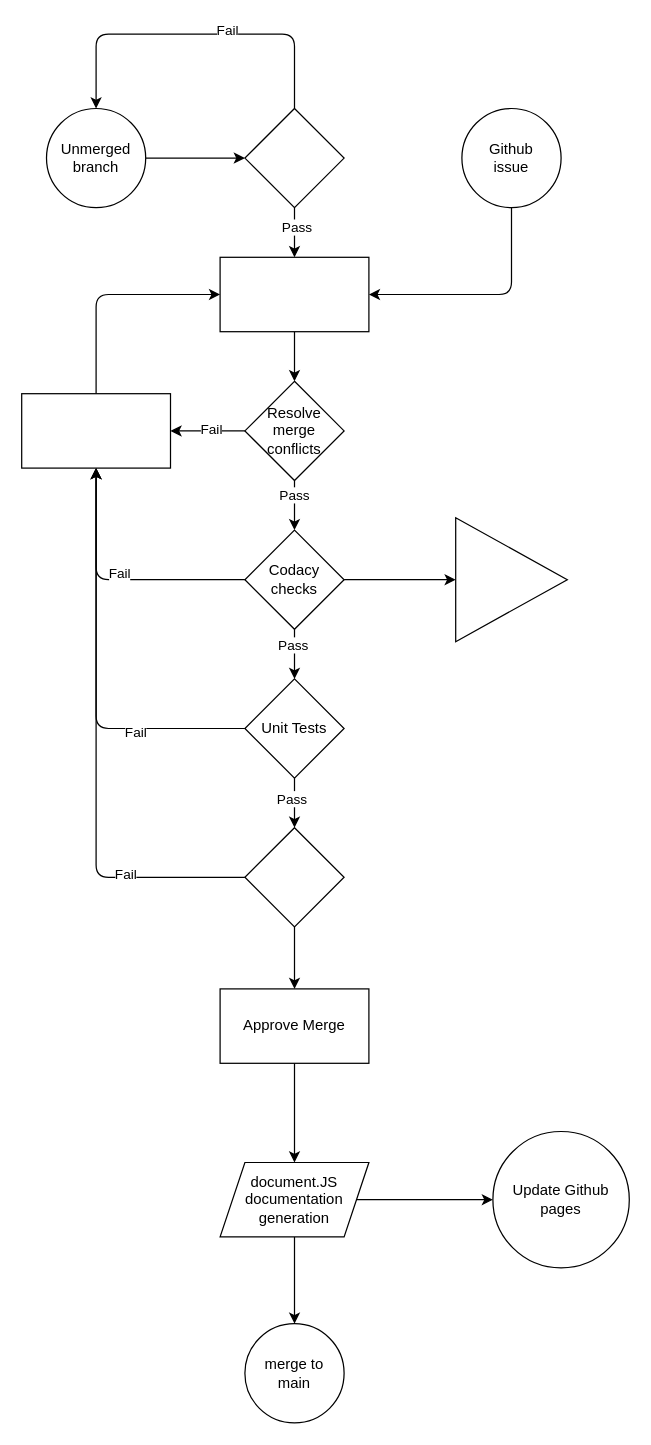
The diagram is 651 pixels wide and 1445 high, and some of its shapes have lost their labels. The shapes that lost their labels are listed below. From the top down, each one's centre as x and y in pixels, then its label:
At (x=294, y=157): "ESLint checks".
At (x=294, y=294): "Submit pull request".
At (x=95, y=430): "Resolve pull request issues".
At (x=510, y=579): "Codacy report".
At (x=294, y=876): "Human review".
